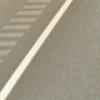crosswalks: (0, 0, 52, 65)
